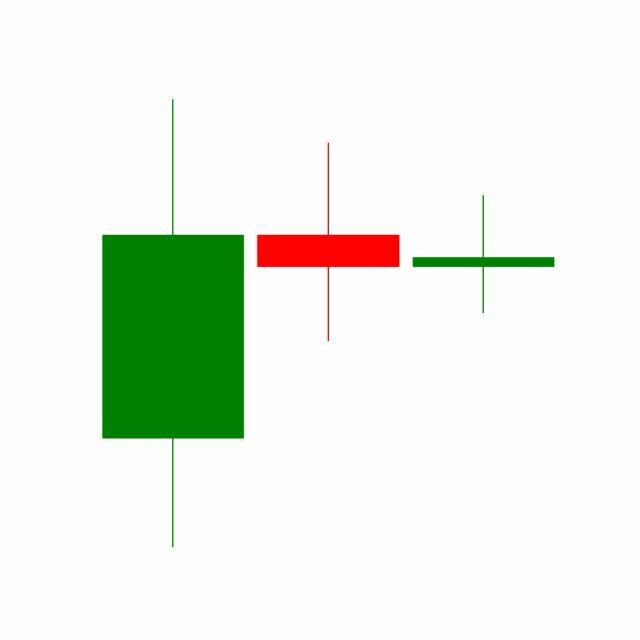Spinning Top: (250, 141, 407, 345)
